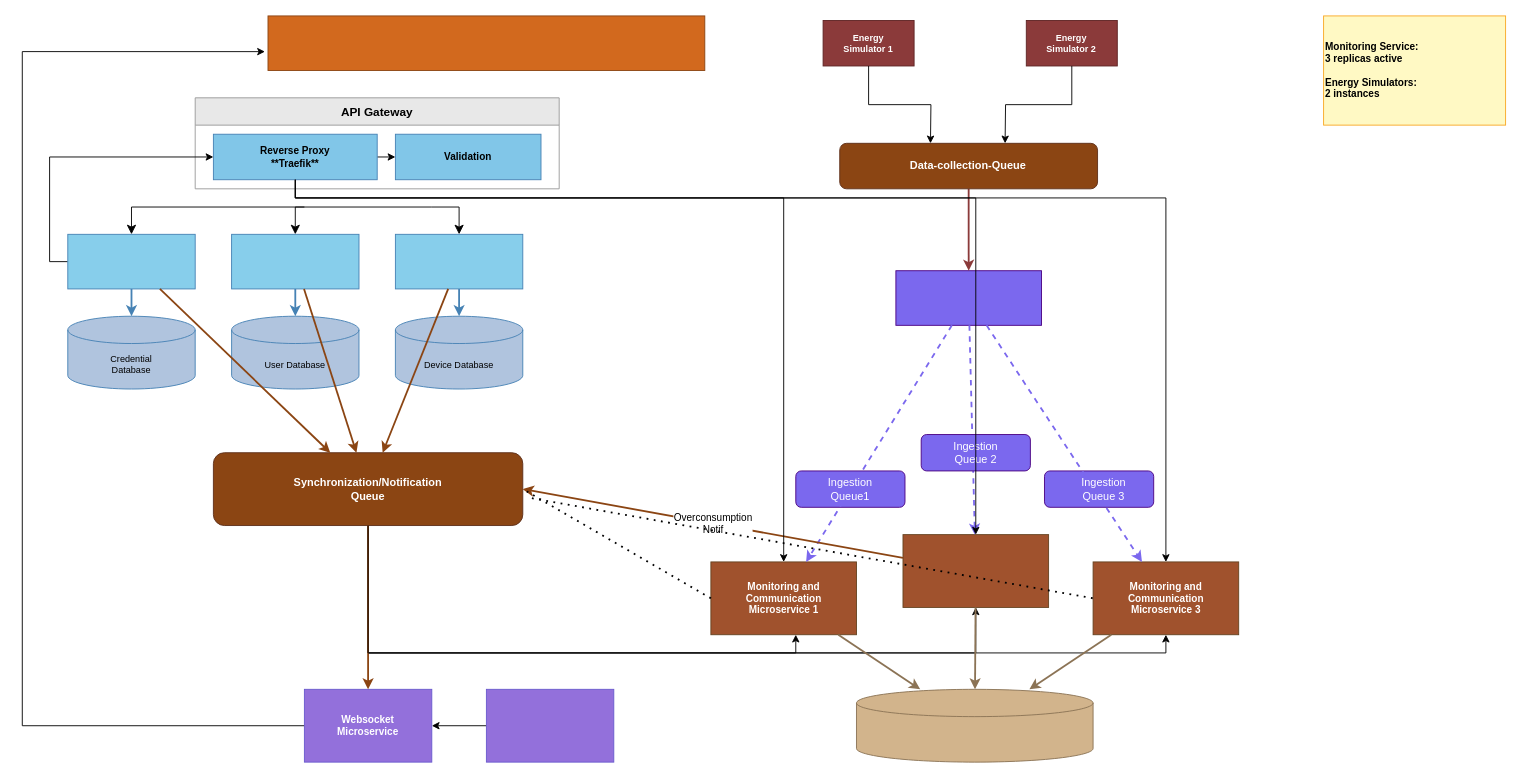
Some shapes in this 1522 by 778 pixel diagram are drawn without their labels. The shapes that lost their labels are listed below. From the top down, each one's centre as x and y in pixels, then its label:
pixel 486 43: Visualization Platform
pixel 131 261: Authentication Service
pixel 295 261: User Management Microservice
pixel 458 261: Device Management Microservice
pixel 968 297: Load Balancing Service
pixel 975 570: Monitoring and Communication Microservice 2
pixel 549 725: Customer Support Microservice
pixel 974 725: Monitoring Database
